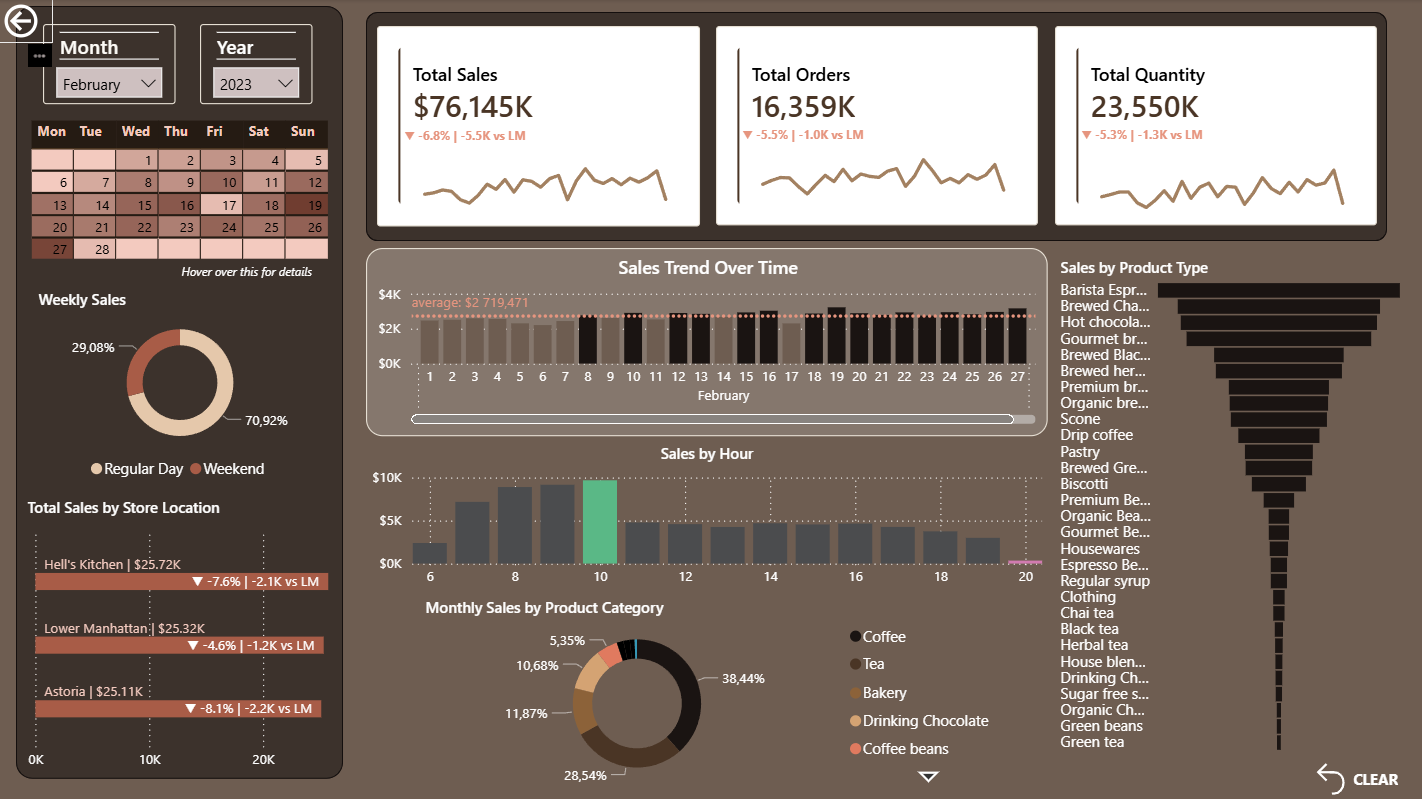

Layout of this report page (visuals, bound fields, positions):
{"tool":"powerbi","page":{"name":"Page 1","canvas":[1280,720],"ordinal":0},"visuals":[{"type":"shape","box":[15,6.5,293.6,693.8],"z":0},{"type":"shape","box":[329.5,11.7,916.6,205.6],"z":0,"group":"g1"},{"type":"slicer","fields":{"Values":["Date Table.Month"]},"box":[39.5,22.4,119.4,71.8],"z":1000},{"type":"slicer","fields":{"Values":["Date Table.Year"]},"box":[180.4,22.4,101.4,71.8],"z":2000},{"type":"columnChart","title":"Sales Trend Over Time","fields":{"Y":["Transactions.Total Sales"],"Category":["Date Table.Date.Variation.Date Hierarchy.Month","Date Table.Date.Variation.Date Hierarchy.Day"]},"box":[329.5,223.5,612.3,168.8],"z":3000},{"type":"cardVisual","fields":{"Data":["Transactions.Total Sales"]},"box":[339.8,24.5,289.5,180],"z":4000,"group":"g1"},{"type":"columnChart","title":"Sales by Hour","fields":{"Y":["Transactions.Total Sales"],"Category":["Transactions.transaction hour"]},"box":[329.5,398.6,612.3,138.3],"z":4000},{"type":"cardVisual","fields":{"Data":["Transactions.Total Orders"]},"box":[643.3,24.7,289.3,179.3],"z":5000,"group":"g1"},{"type":"pivotTable","fields":{"Rows":["Date Table.Week Number"],"Columns":["Date Table.Day Name","Date Table.Day Of Week"],"Values":["Sum(Date Table.Day)"]},"box":[24.3,103.8,284.2,156.1],"z":5000},{"type":"cardVisual","fields":{"Data":["Transactions.Total Quantity"]},"box":[947.8,24.7,289.3,179.3],"z":6000,"group":"g1"},{"type":"actionButton","box":[1176.2,680.7,103.8,39.3],"z":6000},{"type":"lineChart","fields":{"Y":["Transactions.Total Sales"],"Category":["Date Table.Date.Variation.Date Hierarchy.Day"]},"box":[358.8,115,270.5,80.5],"z":7000,"group":"g1"},{"type":"donutChart","title":"Weekly Sales","fields":{"Category":["Date Table.Is Weekend"],"Y":["Transactions.Total Sales"]},"box":[30.8,260.1,263.9,180.4],"z":7000},{"type":"donutChart","title":"Monthly Sales by Product Category","fields":{"Y":["Transactions.Total Sales"],"Category":["Transactions.product_category"]},"box":[378,536.9,530.6,174.2],"z":8000},{"type":"lineChart","fields":{"Category":["Date Table.Date.Variation.Date Hierarchy.Day"],"Y":["Transactions.Total Orders"]},"box":[662.4,114.1,270.5,80.5],"z":9000,"group":"g1"},{"type":"clusteredBarChart","title":"Total Sales by Store Location","fields":{"Category":["Transactions.store_location"],"Y":["Transactions.Placeholder","Transactions.Total Sales"]},"box":[20.9,446.9,319.2,253.3],"z":9000},{"type":"lineChart","fields":{"Category":["Date Table.Date.Variation.Date Hierarchy.Day"],"Y":["Transactions.Total Quantity"]},"box":[966.9,114.1,270.5,80.5],"z":10000,"group":"g1"},{"type":"textbox","box":[158.9,230,135.6,29.9],"z":10000},{"type":"actionButton","box":[0,0,48.5,39.5],"z":11000},{"type":"funnel","title":"Sales by Product Type","fields":{"Y":["Transactions.Total Sales"],"Category":["Transactions.product_type"]},"box":[948,231.6,319.6,448.9],"z":12000},{"type":"group","id":"g1","title":"Group 1","box":[329.5,11.7,916.6,205.6],"z":13000}]}

Visuals, with their boxes in screenshot pixels (x1, y1, x2, y2), scaled from the page's 1280x720 canvas onto the 1422x799 screenshot:
shape: (17,7,343,777)
shape: (366,13,1384,241)
slicer - Date Table.Month: (44,25,177,105)
slicer - Date Table.Year: (200,25,313,105)
"Sales Trend Over Time" columnChart: (366,248,1046,435)
cardVisual - Transactions.Total Sales: (377,27,699,227)
"Sales by Hour" columnChart: (366,442,1046,596)
cardVisual - Transactions.Total Orders: (715,27,1036,226)
pivotTable - Date Table.Week Number x Date Table.Day Name: (27,115,343,288)
cardVisual - Transactions.Total Quantity: (1053,27,1374,226)
actionButton: (1307,755,1421,798)
lineChart - Transactions.Total Sales x Date Table.Date.Variation.Date Hierarchy.Day: (399,128,699,217)
"Weekly Sales" donutChart: (34,289,327,489)
"Monthly Sales by Product Category" donutChart: (420,596,1009,789)
lineChart - Date Table.Date.Variation.Date Hierarchy.Day x Transactions.Total Orders: (736,127,1036,216)
"Total Sales by Store Location" clusteredBarChart: (23,496,378,777)
lineChart - Date Table.Date.Variation.Date Hierarchy.Day x Transactions.Total Quantity: (1074,127,1375,216)
textbox: (177,255,327,288)
actionButton: (0,0,54,44)
"Sales by Product Type" funnel: (1053,257,1408,755)
"Group 1" group: (366,13,1384,241)
